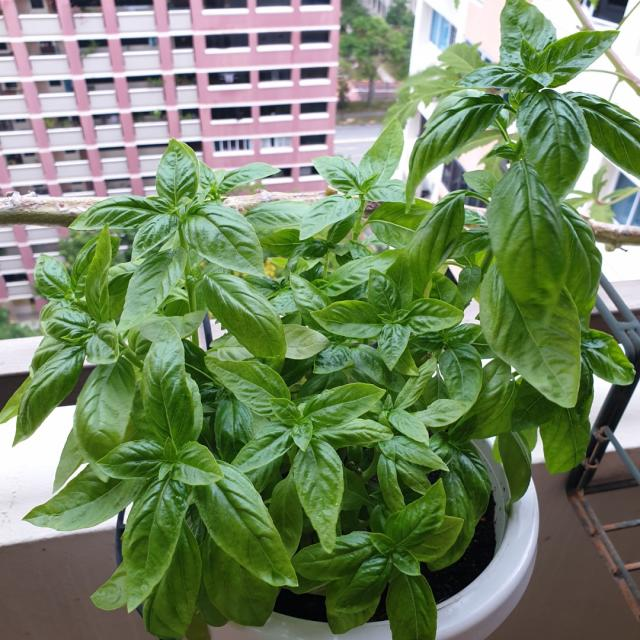Sweet Basil: (73, 3, 639, 630)
